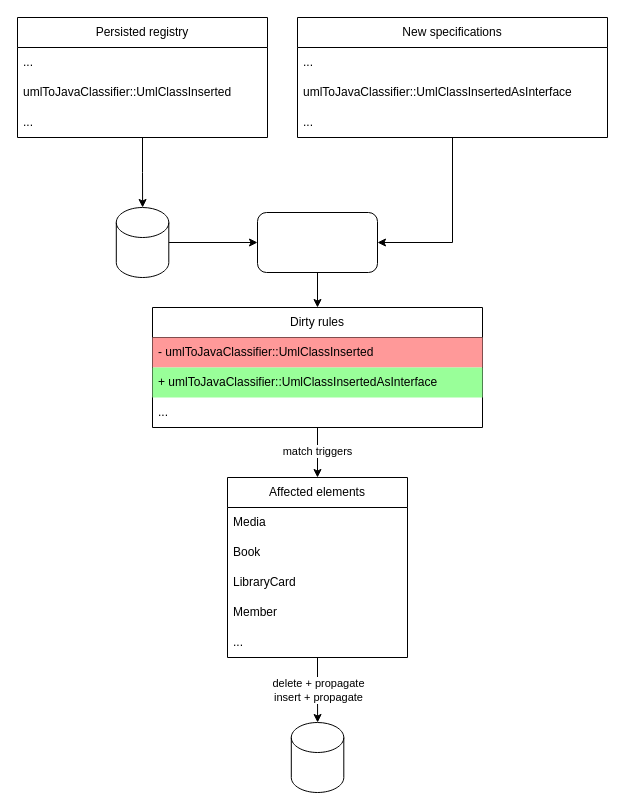
Some shapes in this 625 by 810 pixel diagram are drawn without their labels. The centre of each missing label's shape, as x and y in pixels:
"Migration" belongs at pixel 317 242.
"V-SUM config1" belongs at pixel 142 242.
"V-SUM config7" belongs at pixel 317 757.
